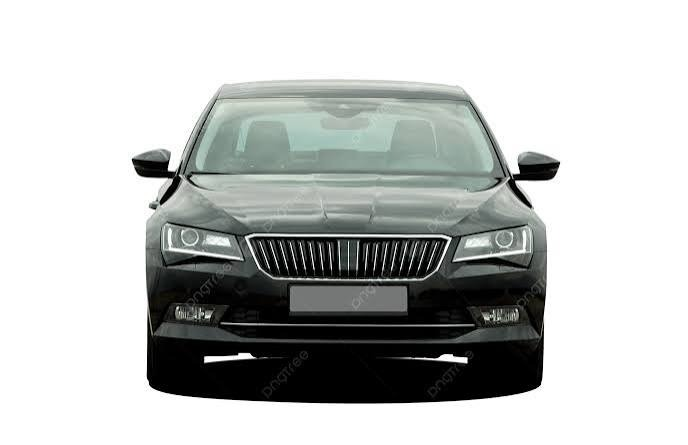car: (124, 80, 569, 411), (112, 86, 563, 406)
